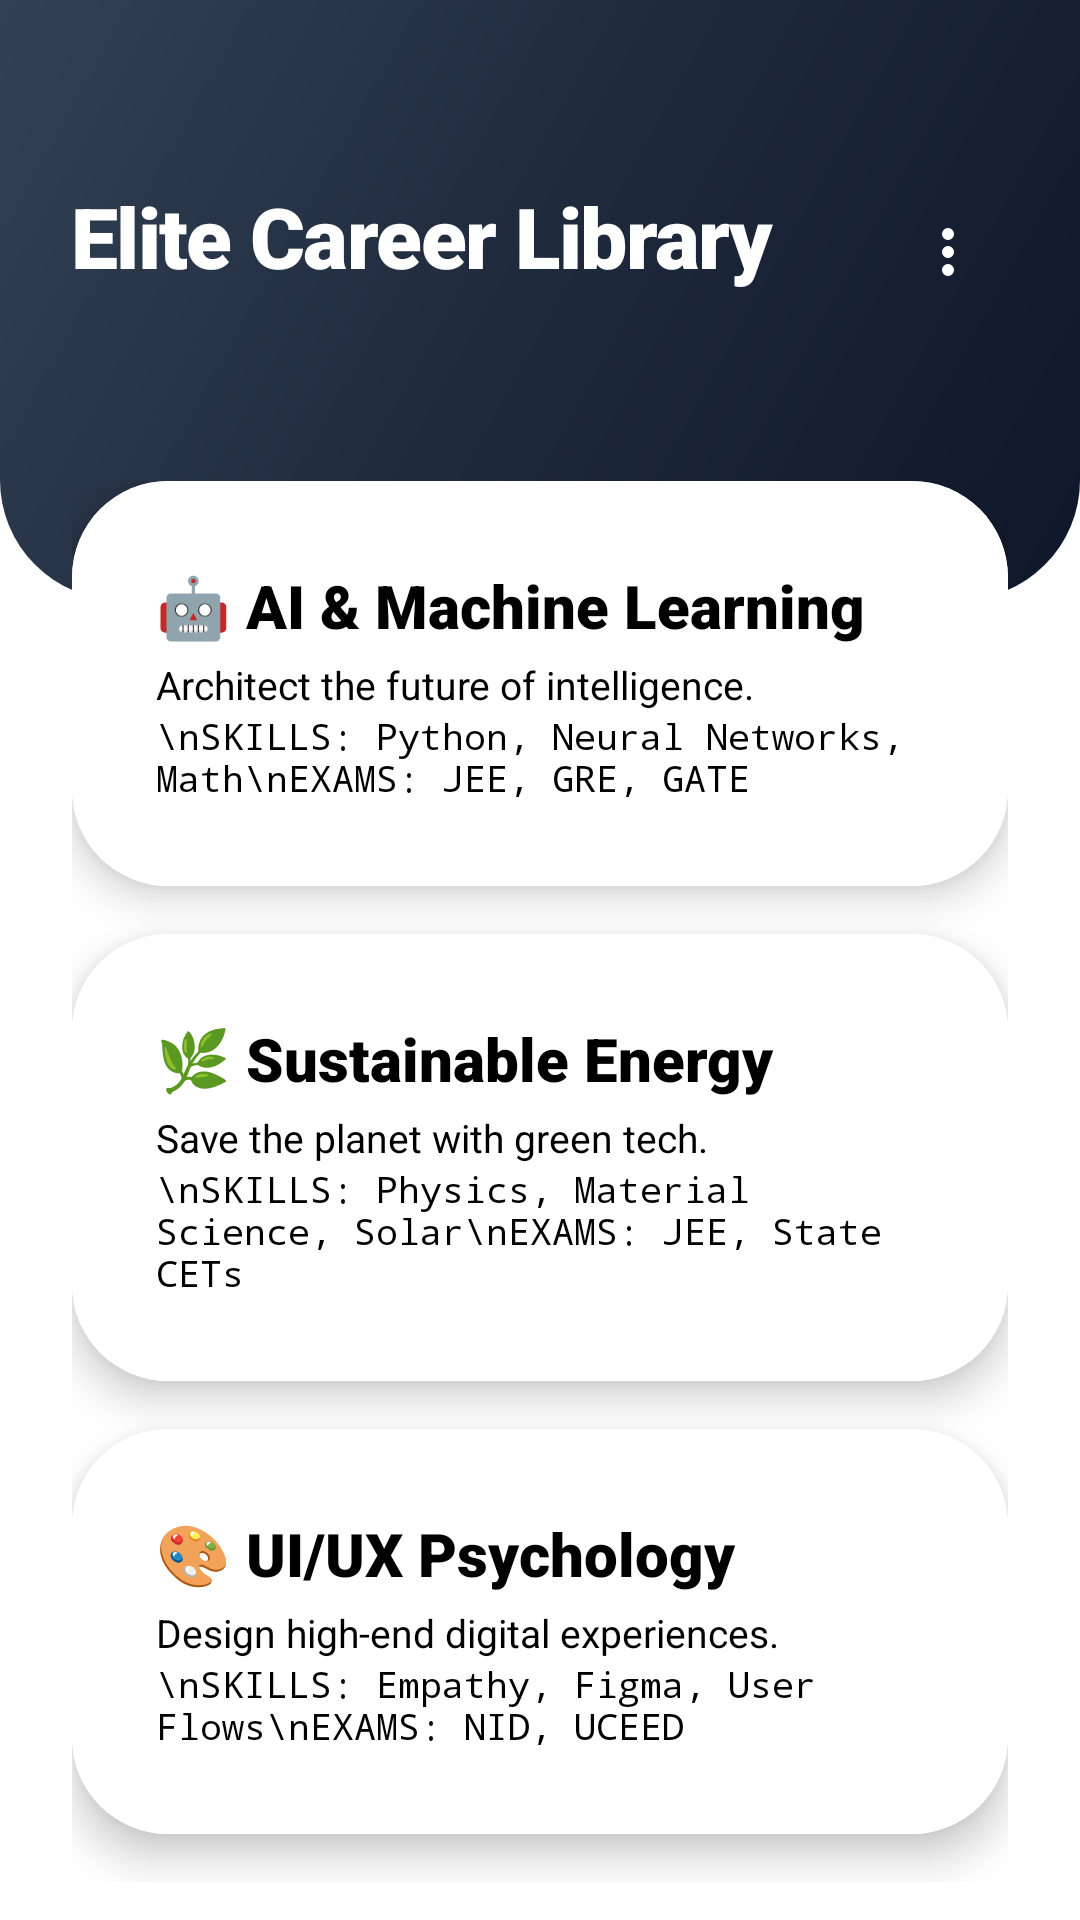

Icons on this 1080 × 1920 Android screen, each with the point to tap as [x,y]:
Menu: [948,252]
